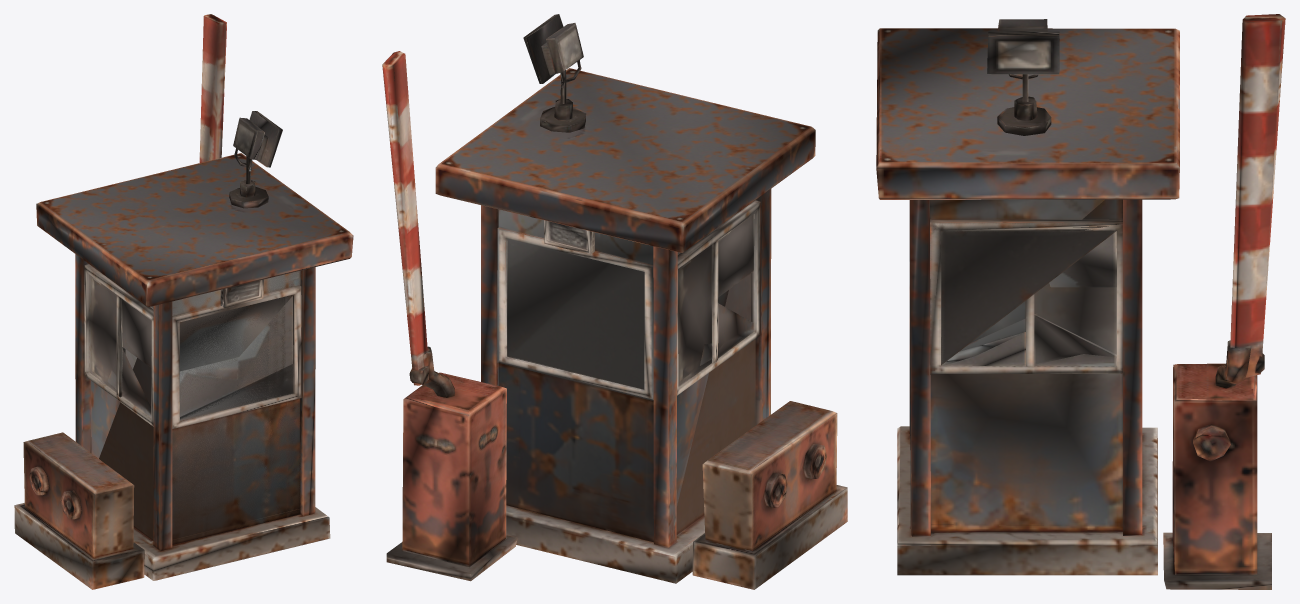
The model's file is Meshy_AI_Rusty_Guard_Booth_0910090136_texture.fbx.
The picture shows the model from 3 angles, left to right: view 1: azimuth 30°, elevation 25°; view 2: azimuth 150°, elevation 25°; view 3: azimuth 270°, elevation 25°; orthographic projection. The views are drawn at different scales.
Visible parts, largest first — view 1: Mesh_0; view 2: Mesh_0; view 3: Mesh_0.
Boxes of the visible parts, x1=… form: Mesh_0: x1=14, y1=14, x2=353, y2=589; Mesh_0: x1=382, y1=14, x2=847, y2=589; Mesh_0: x1=876, y1=14, x2=1285, y2=589.
Bounding box in the file's own units: 64.45 × 100 × 65.04.
1 material, 1 textured.
